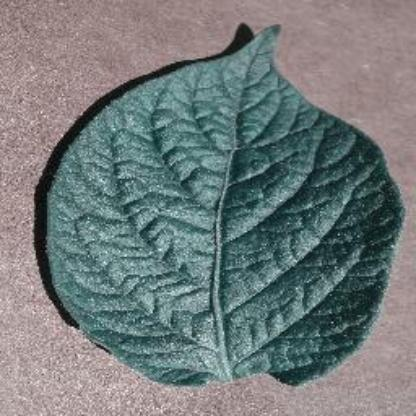Healthy-plant: (45, 19, 404, 389)
